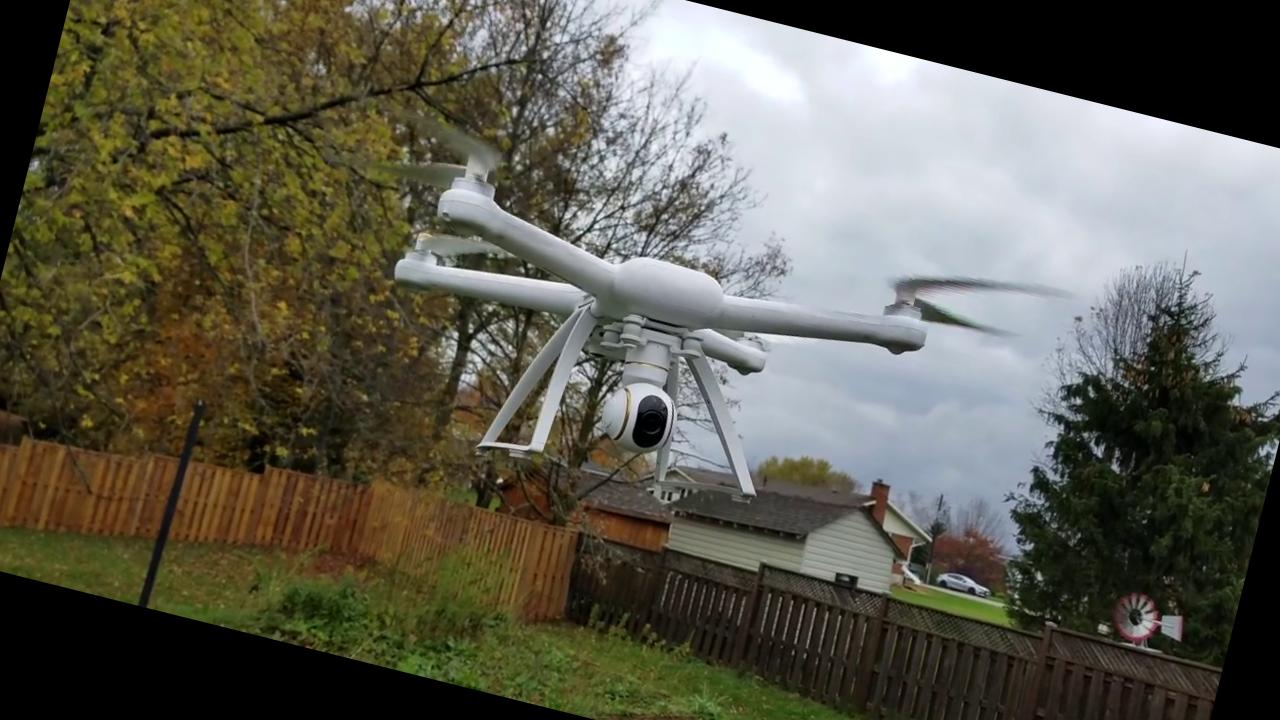drone: (293, 64, 1111, 506)
